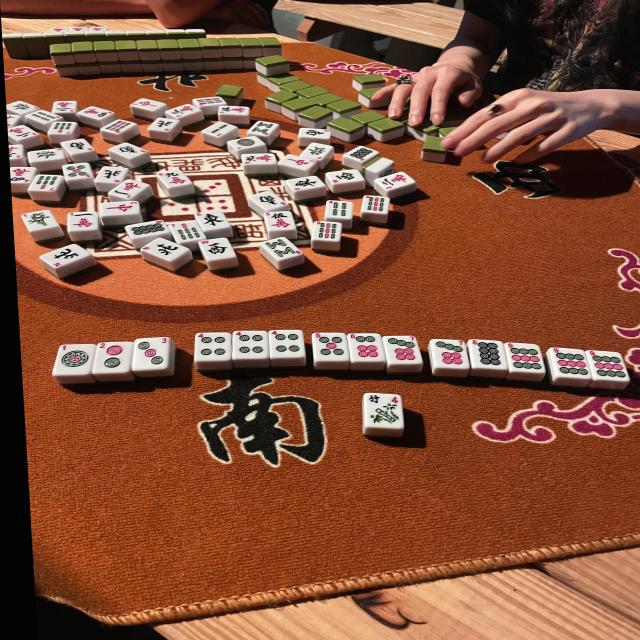1B: (25, 212, 52, 232)
1C: (68, 213, 98, 230), (114, 182, 143, 197)
1D: (53, 345, 98, 374), (233, 138, 259, 148)
2B: (206, 122, 233, 136)
2C: (378, 173, 408, 188), (52, 101, 77, 114), (10, 127, 38, 138)
2D: (94, 342, 136, 373)
3C: (168, 104, 198, 117), (9, 145, 24, 159)
3D: (130, 338, 171, 369)
4B: (30, 112, 59, 122)
4C: (82, 108, 110, 119)
4D: (192, 333, 231, 361), (232, 332, 268, 358), (269, 332, 304, 358)
4F: (363, 394, 404, 429)
5C: (221, 104, 247, 116)
5D: (314, 334, 350, 361), (64, 165, 91, 179)
6D: (350, 335, 386, 361)
7B: (264, 210, 293, 230), (324, 201, 354, 220), (29, 174, 62, 191), (172, 222, 203, 240), (10, 168, 35, 185), (50, 121, 74, 136)
7D: (430, 340, 469, 368), (383, 337, 421, 364)
8B: (264, 236, 303, 262), (251, 121, 272, 134)
8D: (470, 340, 505, 368), (128, 220, 166, 240), (343, 146, 377, 166)
9B: (314, 222, 343, 243), (100, 120, 135, 136), (361, 197, 389, 216), (194, 95, 223, 106)
9C: (96, 167, 131, 186), (162, 172, 187, 186), (244, 154, 272, 164)
9D: (552, 348, 590, 377), (591, 351, 628, 379), (506, 344, 544, 371)
EW: (201, 211, 225, 228), (291, 176, 320, 190)
GD: (306, 143, 328, 159), (33, 149, 62, 159), (10, 102, 34, 112)
NW: (143, 236, 189, 263), (46, 247, 85, 265), (109, 142, 144, 157), (152, 120, 175, 132)
RD: (102, 202, 140, 217), (284, 156, 312, 168), (135, 98, 161, 109)
SW: (258, 192, 283, 210), (300, 128, 329, 138), (69, 140, 89, 152)
WW: (199, 238, 237, 261), (325, 170, 363, 187)
